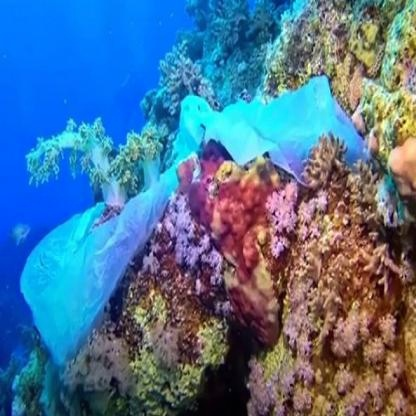plastic: (167, 72, 384, 194), (27, 184, 186, 338)
